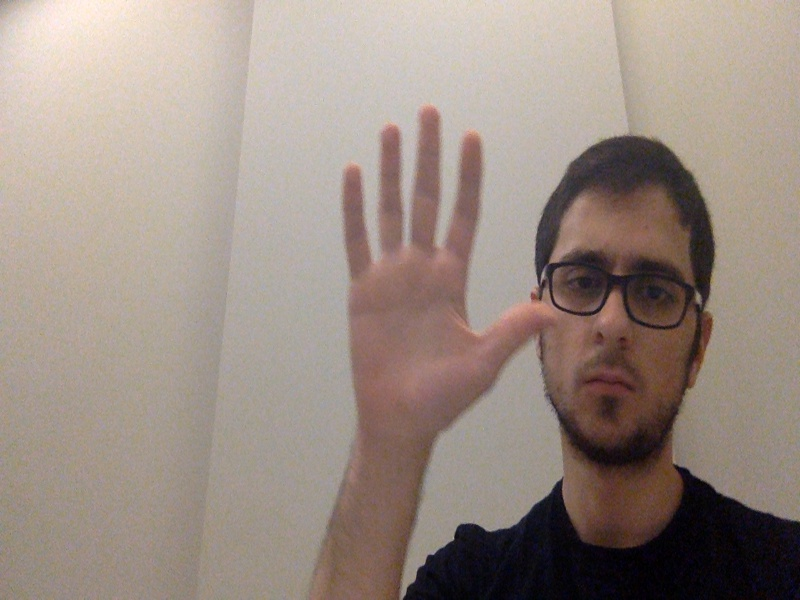5-hand: (342, 106, 562, 417)
